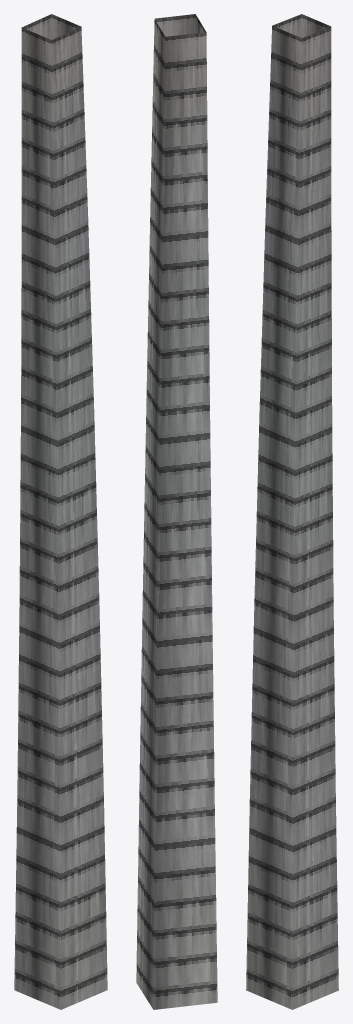
Rendered from tree_fern_bark_l2.gltf.
3 renders of one model, left to right at view 1: azimuth 90°, elevation 25°; view 2: azimuth 150°, elevation 25°; view 3: azimuth 270°, elevation 25°, orthographic.
Visible parts, largest first — view 1: tree_fern_bark_l2; view 2: tree_fern_bark_l2; view 3: tree_fern_bark_l2.
Part boxes in pixels (x1,y1,x2,y2): tree_fern_bark_l2: (14, 14, 107, 1009); tree_fern_bark_l2: (136, 14, 217, 1009); tree_fern_bark_l2: (246, 14, 338, 1009).
Bounding box in the file's own units: 0.35 × 4 × 0.35.
1 material, 1 textured.
